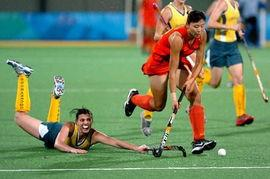bending: (130, 10, 209, 158)
down: (4, 60, 148, 155)
up: (204, 1, 263, 121)
